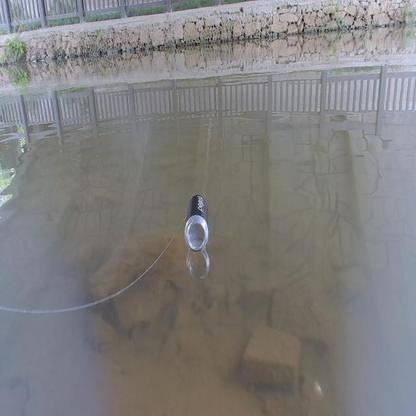can: (185, 195, 209, 250)
